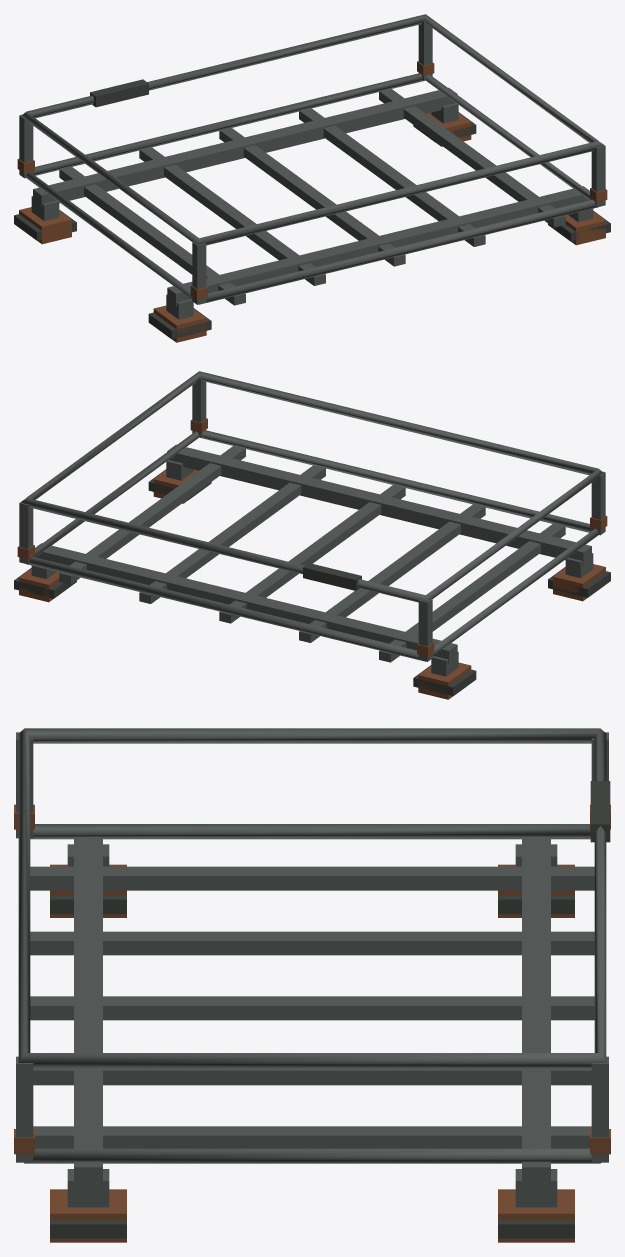
The model's file is zastava_101_upgrade_roofrack.glb.
3 views of the same model, one above another, from view 1: azimuth 30°, elevation 25°; view 2: azimuth 150°, elevation 25°; view 3: azimuth 270°, elevation 25° (orthographic). The views are drawn at different scales.
Parts seen in each view (by area): view 1: zastava_101_upgrade_roofrack; view 2: zastava_101_upgrade_roofrack; view 3: zastava_101_upgrade_roofrack.
Part boxes in pixels (x1,y1,x2,y2): zastava_101_upgrade_roofrack: [14, 14, 610, 342]; zastava_101_upgrade_roofrack: [14, 371, 610, 699]; zastava_101_upgrade_roofrack: [14, 728, 610, 1242].
Bounding box in the file's own units: 1.32 × 0.3085 × 0.933.
